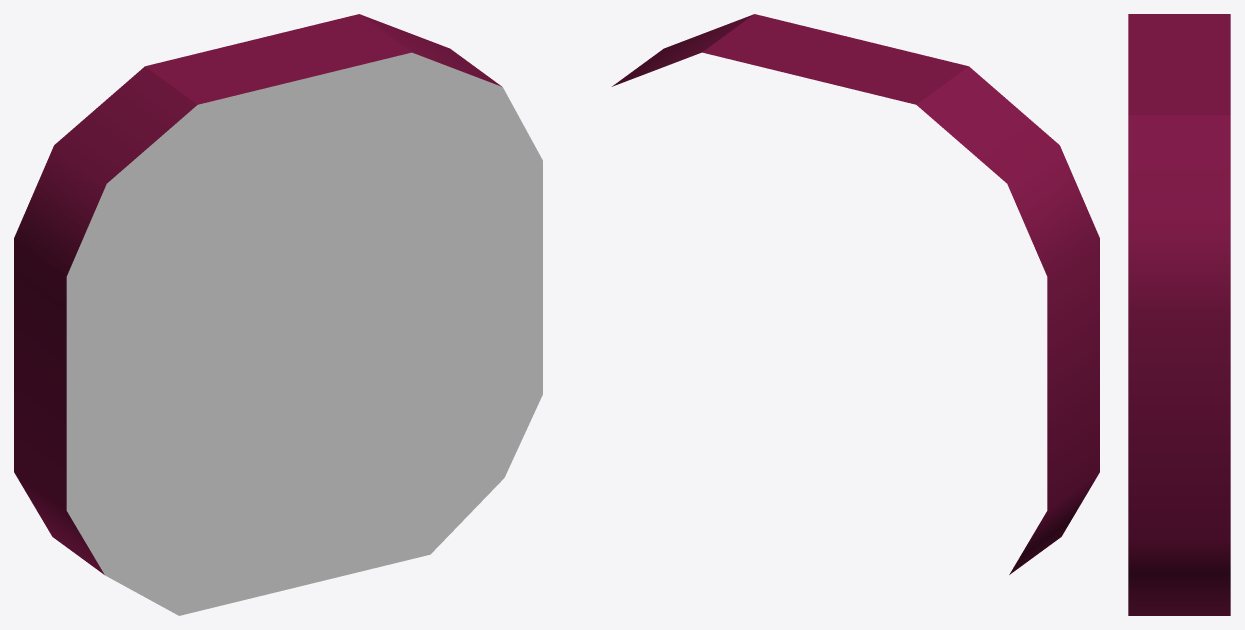
File: findFourTRex.glb
3 renders of one model, left to right at view 1: azimuth 30°, elevation 25°; view 2: azimuth 150°, elevation 25°; view 3: azimuth 270°, elevation 25°, orthographic. The views are drawn at different scales.
Visible parts, largest first — view 1: findFourTRex; view 2: findFourTRex; view 3: findFourTRex.
Part boxes in pixels (left/top/right/bottom): findFourTRex: left=14, top=14, right=542, bottom=615; findFourTRex: left=612, top=14, right=1099, bottom=574; findFourTRex: left=1128, top=14, right=1230, bottom=615.
Size of the model in its own units: 0.0732 by 0.0744 by 0.014.
